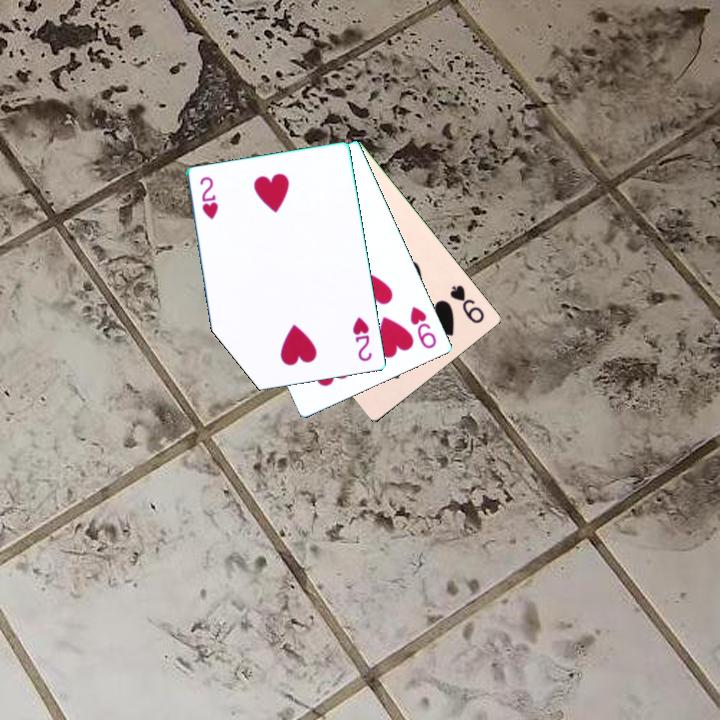2h: (349, 313, 375, 365), (197, 173, 221, 222)
9h: (407, 303, 440, 352)
9s: (446, 281, 488, 326)
